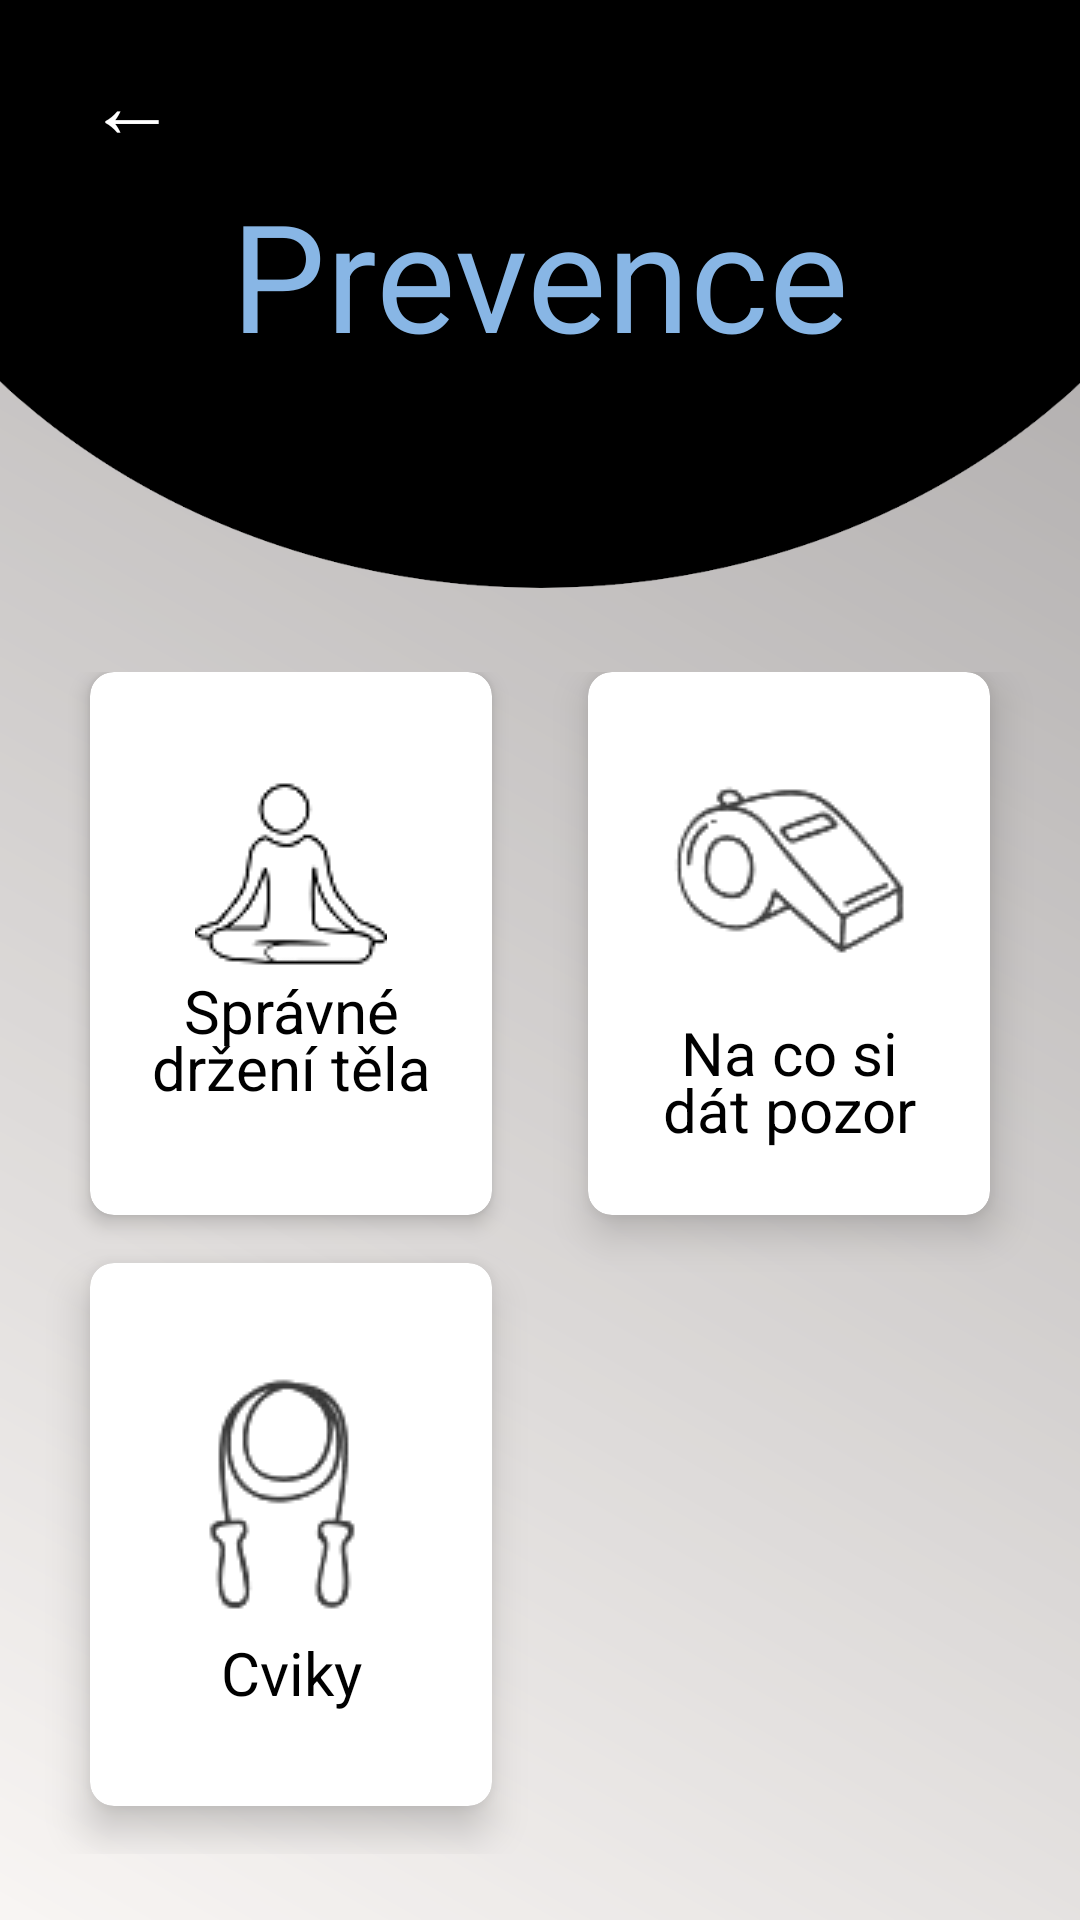

Screen size 1080 x 1920. Icon name, then its box in pixels as detection(x1, y1, x2, y2):
correctposture pic: detection(195, 783, 387, 965)
svihadlo pic: detection(209, 1379, 355, 1609)
whistle pic: detection(677, 787, 904, 953)
